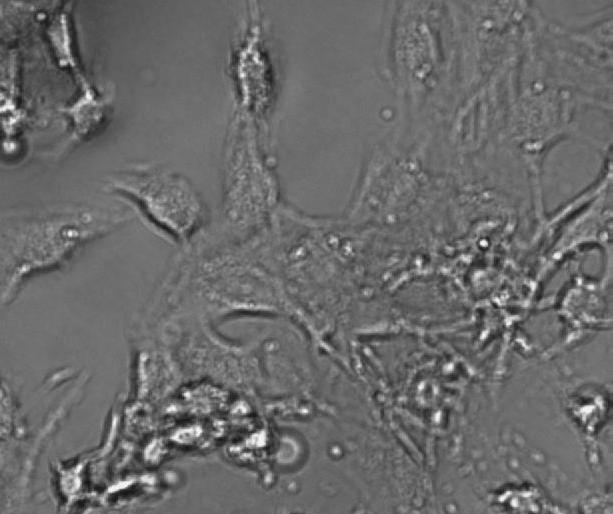Dead: (222, 21, 283, 120), (216, 418, 288, 489), (555, 373, 613, 447), (33, 10, 96, 75), (58, 76, 112, 149), (44, 449, 103, 512), (405, 374, 456, 426), (162, 416, 206, 453), (130, 435, 172, 471), (221, 388, 259, 422), (197, 411, 233, 443)
